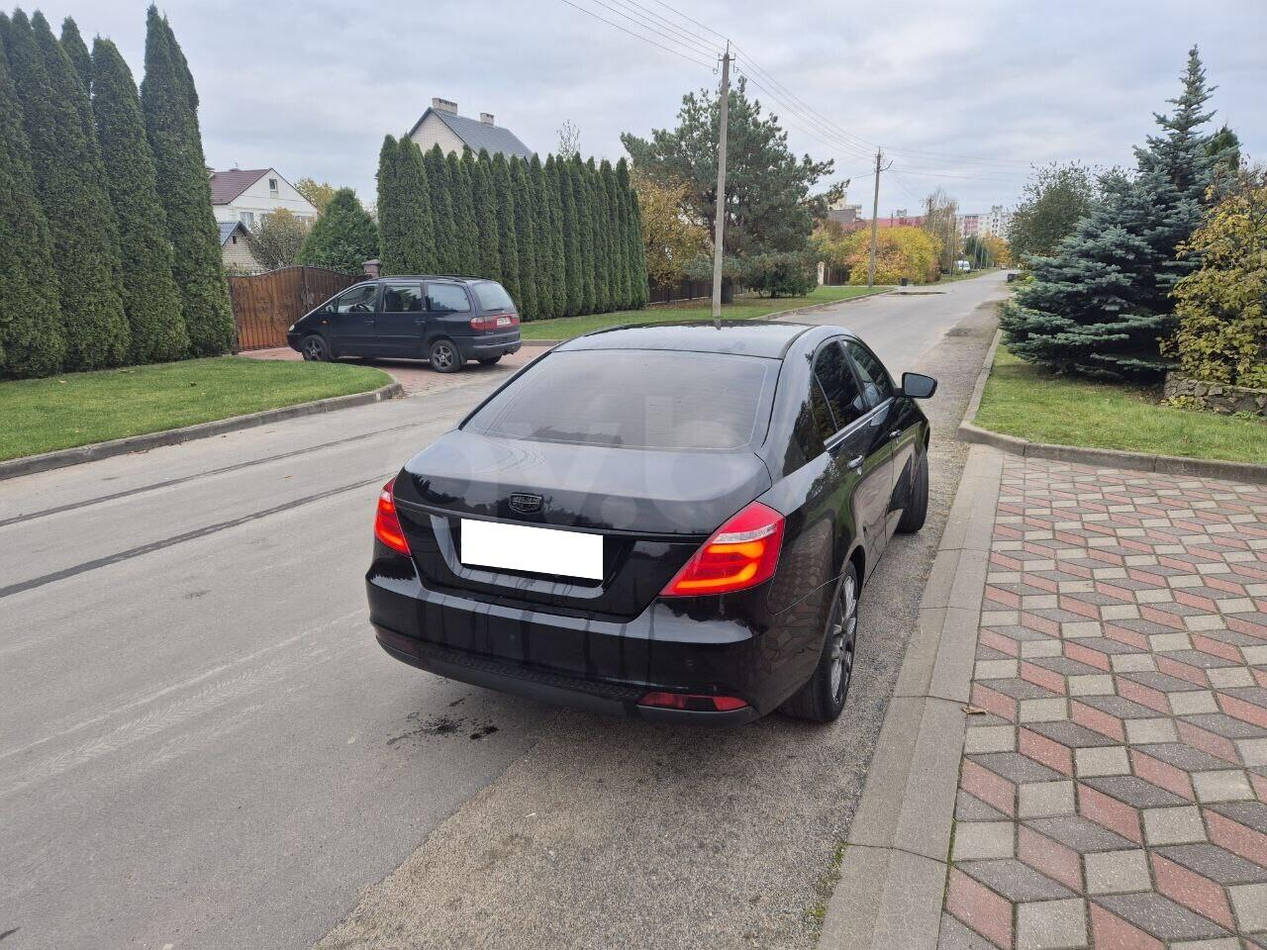Emgrand_2019-2021: (365, 322, 935, 722)
